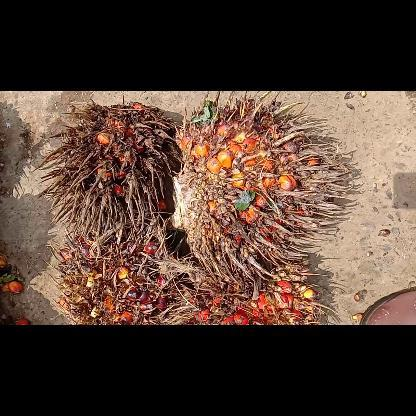Terlalu masak: (164, 90, 362, 284), (28, 98, 184, 240), (44, 214, 188, 324), (163, 256, 329, 324)
